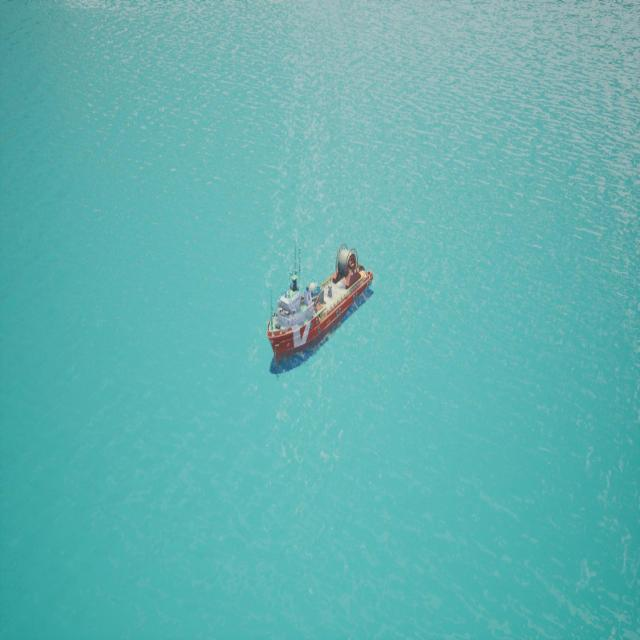tug boat: (266, 248, 375, 377)
